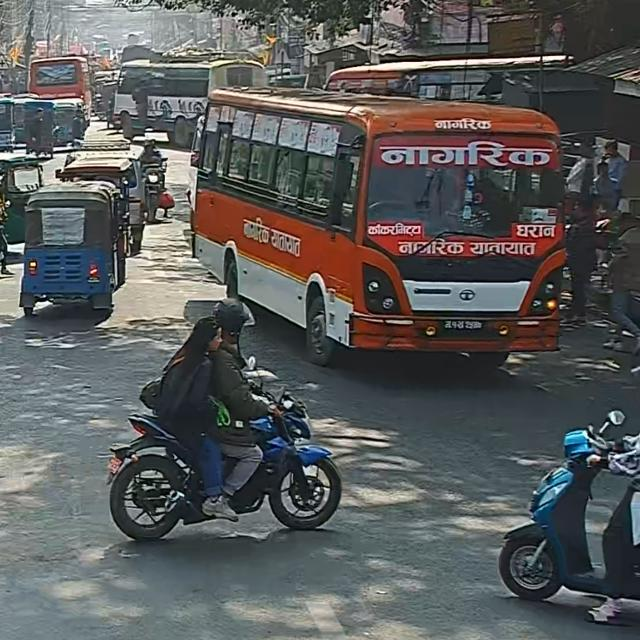license_plate: (382, 312, 536, 342)
